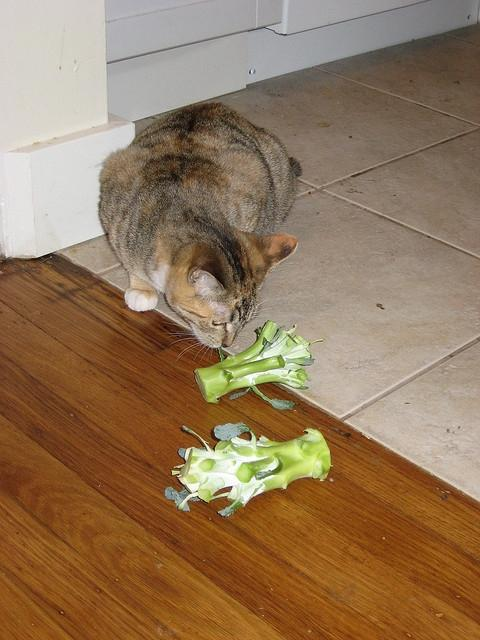broccoli: (165, 422, 333, 516), (194, 320, 325, 410)
